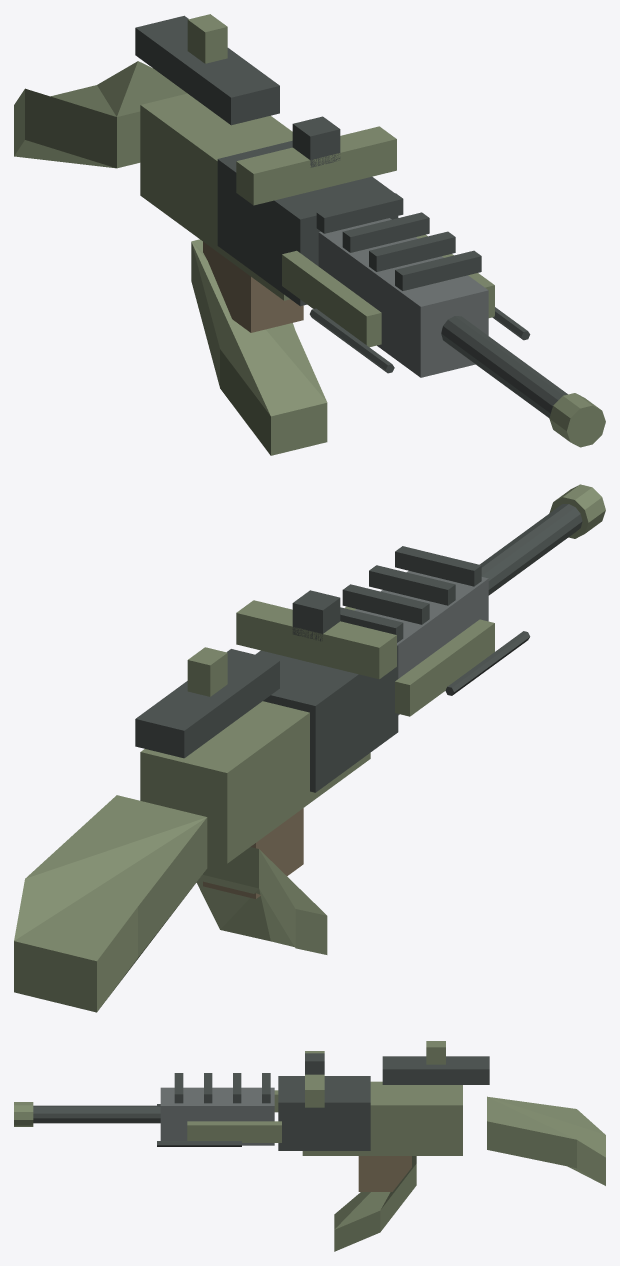
The model's file is pindad-ss2.glb.
3 renders of one model, top to bottom at view 1: azimuth 30°, elevation 25°; view 2: azimuth 150°, elevation 25°; view 3: azimuth 270°, elevation 25°, orthographic. The views are drawn at different scales.
Parts seen in each view (by area): view 1: pindad-ss2; view 2: pindad-ss2; view 3: pindad-ss2.
Part boxes in pixels (x1,y1,x2,y2): pindad-ss2: [14, 14, 605, 455]; pindad-ss2: [14, 484, 605, 1012]; pindad-ss2: [14, 1041, 605, 1251].
Size of the model in its own units: 0.384 by 0.91 by 2.44.
